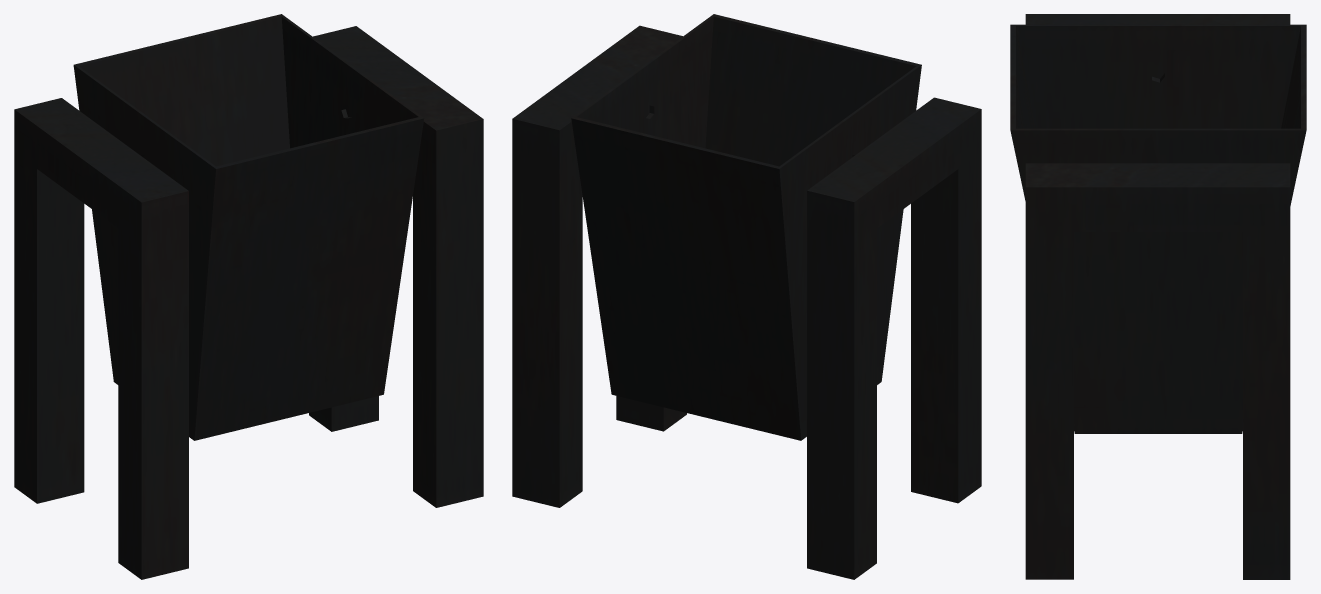
The model's file is trashcan.obj.
3 views of the same model, side by side, from view 1: azimuth 30°, elevation 25°; view 2: azimuth 150°, elevation 25°; view 3: azimuth 270°, elevation 25° (orthographic). The views are drawn at different scales.
Visible parts, largest first — view 1: trashcan_Cube.002; view 2: trashcan_Cube.002; view 3: trashcan_Cube.002.
Part boxes in pixels (x1=…): trashcan_Cube.002: x1=14, y1=14, x2=483, y2=579; trashcan_Cube.002: x1=512, y1=14, x2=981, y2=579; trashcan_Cube.002: x1=1010, y1=14, x2=1306, y2=579.
Size of the model in its own units: 1.7 by 1.9 by 1.23.
